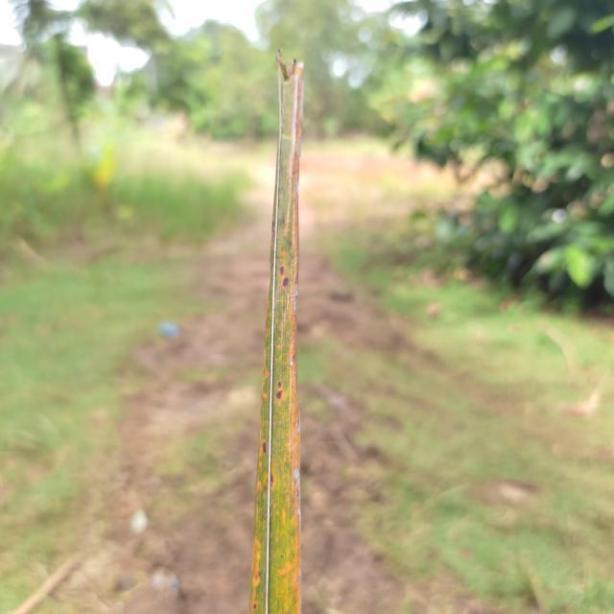Kalium: (249, 54, 324, 614)
